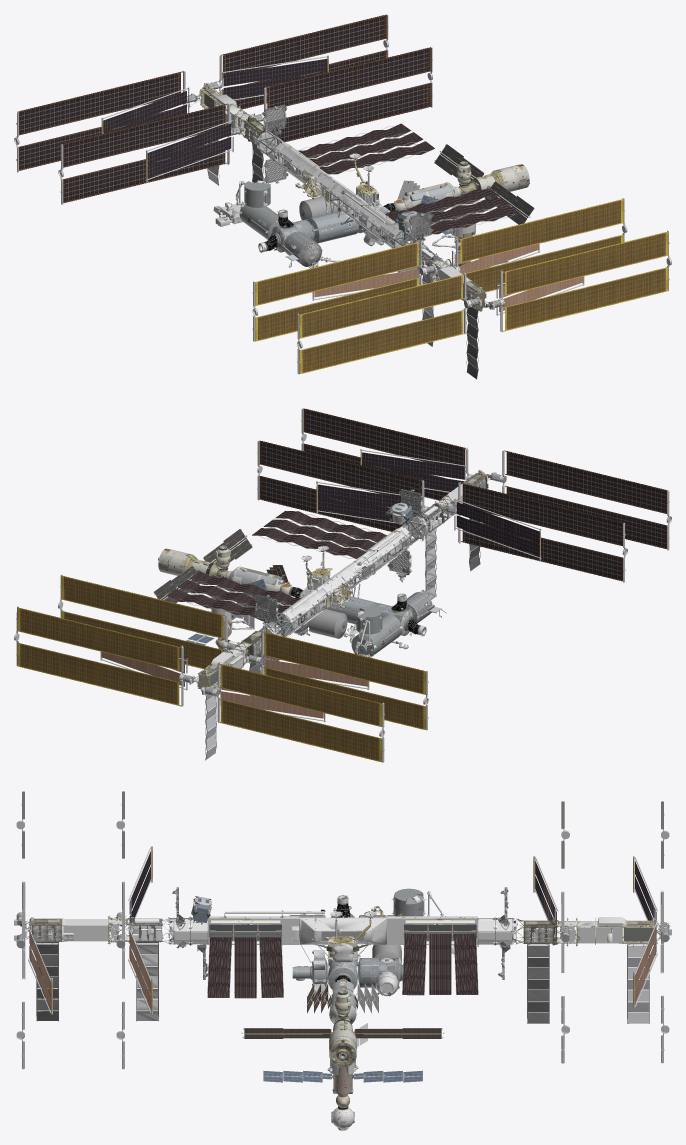
File: iss.glb
3 renders of one model, top to bottom at view 1: azimuth 30°, elevation 25°; view 2: azimuth 150°, elevation 25°; view 3: azimuth 270°, elevation 25°, orthographic. The views are drawn at different scales.
Parts seen in each view (by area): view 1: S6_3B_Array, P4_Array_2A.001, P4_Array_2A, P4_Array_4A.001, S4_Array_1A.001, S4_Array_3A.001, P6_2B_Array.001, P6_4B_Array.001, IROSA_Deployed_P44A (×2), P1_Radiator, S1_Radiator, Zvezda_SM (+22 smaller); view 2: P6_2B_Array.001, P6_4B_Array.001, S4_Array_1A.001, S6_3B_Array, P4_Array_4A.001, S4_Array_3A.001, P4_Array_2A, P4_Array_2A.001, S1_Radiator, P1_Radiator, IROSA_Deployed_S41A, Zvezda_SM (+20 smaller); view 3: S1_Radiator, P1_Radiator, Truss_P6, Truss_S6, Zvezda_SM, Truss_P4, MLM, Truss_S4.001, Truss_S0, IROSA_Deployed_P44A (×2), Zarya_FGB, SSREF_IGOAL (+15 smaller).
Boxes of the visible parts, box(x1,y1,x2,y2) form: S6_3B_Array: box(297, 272, 481, 374); P4_Array_2A.001: box(489, 230, 671, 332); P4_Array_2A: box(250, 47, 432, 143); P4_Array_4A.001: box(58, 103, 241, 204); S4_Array_1A.001: box(252, 240, 437, 341); S4_Array_3A.001: box(453, 198, 627, 292); P6_2B_Array.001: box(14, 70, 197, 172); P6_4B_Array.001: box(204, 14, 388, 109); IROSA_Deployed_P44A (×2): box(101, 87, 233, 182); P1_Radiator: box(286, 123, 434, 174); S1_Radiator: box(373, 189, 521, 241); Zvezda_SM: box(434, 144, 534, 224); P6_2B_Array.001: box(202, 662, 384, 762); P6_4B_Array.001: box(14, 606, 194, 706); S4_Array_1A.001: box(446, 482, 627, 582); S6_3B_Array: box(490, 450, 671, 550); P4_Array_4A.001: box(246, 629, 428, 730); S4_Array_3A.001: box(257, 440, 429, 541); P4_Array_2A: box(58, 574, 237, 669); P4_Array_2A.001: box(301, 408, 473, 500); S1_Radiator: box(252, 510, 398, 558); P1_Radiator: box(166, 571, 312, 632); IROSA_Deployed_S41A: box(454, 498, 541, 560); Zvezda_SM: box(153, 529, 252, 603); S1_Radiator: box(207, 920, 283, 998); P1_Radiator: box(402, 919, 478, 995); Truss_P6: box(577, 917, 660, 1023); Truss_S6: box(20, 917, 108, 1021); Zvezda_SM: box(241, 1016, 444, 1067); Truss_P4: box(516, 917, 561, 1023); MLM: box(263, 1023, 422, 1108); Truss_S4.001: box(120, 916, 171, 1021); Truss_S0: box(299, 917, 386, 962); IROSA_Deployed_P44A (×2): box(533, 856, 657, 944); Zarya_FGB: box(306, 979, 378, 1023); SSREF_IGOAL: box(328, 913, 402, 989).
Size of the model in its own units: 7.45 by 2.95 by 10.08.
Materials: 31 (29 with a texture image).
